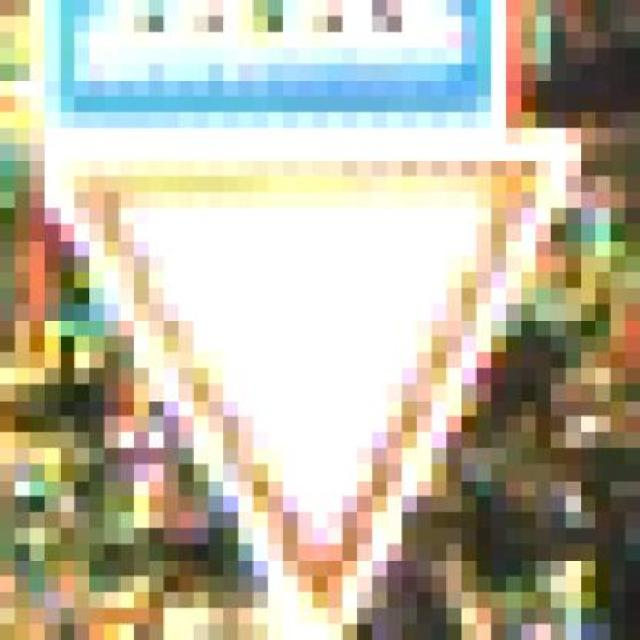Give Way: (14, 95, 609, 639)
